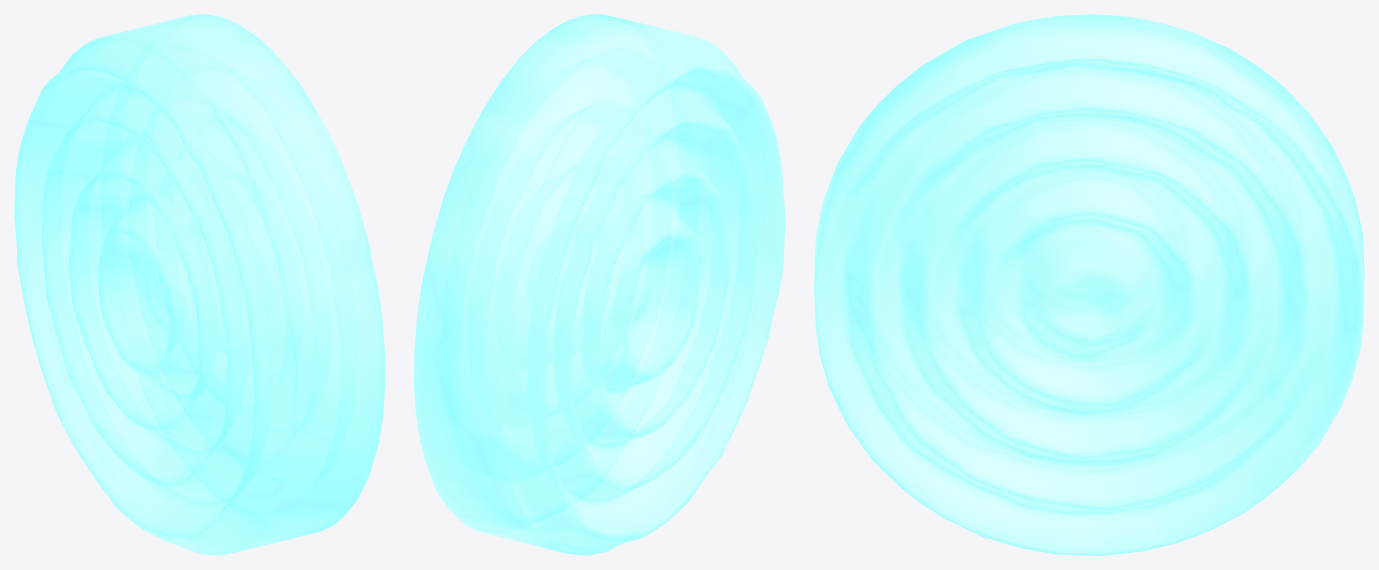
Rendered from island-spring-portal-ring.glb.
The picture shows the model from 3 angles, left to right: view 1: azimuth 30°, elevation 25°; view 2: azimuth 150°, elevation 25°; view 3: azimuth 270°, elevation 25°; orthographic projection. The views are drawn at different scales.
Parts seen in each view (by area): view 1: portal.ring.water; view 2: portal.ring.water; view 3: portal.ring.water.
Boxes of the visible parts, x1,y1,x2,y2 form: portal.ring.water: (14, 14, 385, 555); portal.ring.water: (414, 14, 785, 555); portal.ring.water: (814, 14, 1364, 555).
Size of the model in its own units: 0.1508 by 0.5891 by 0.589.
